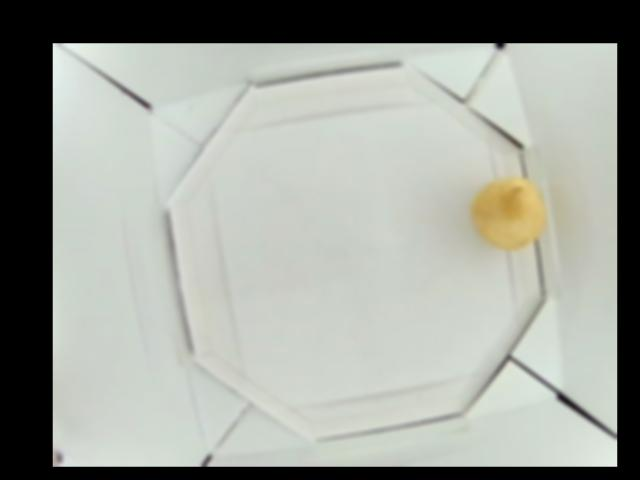Potato: (471, 172, 547, 245)
